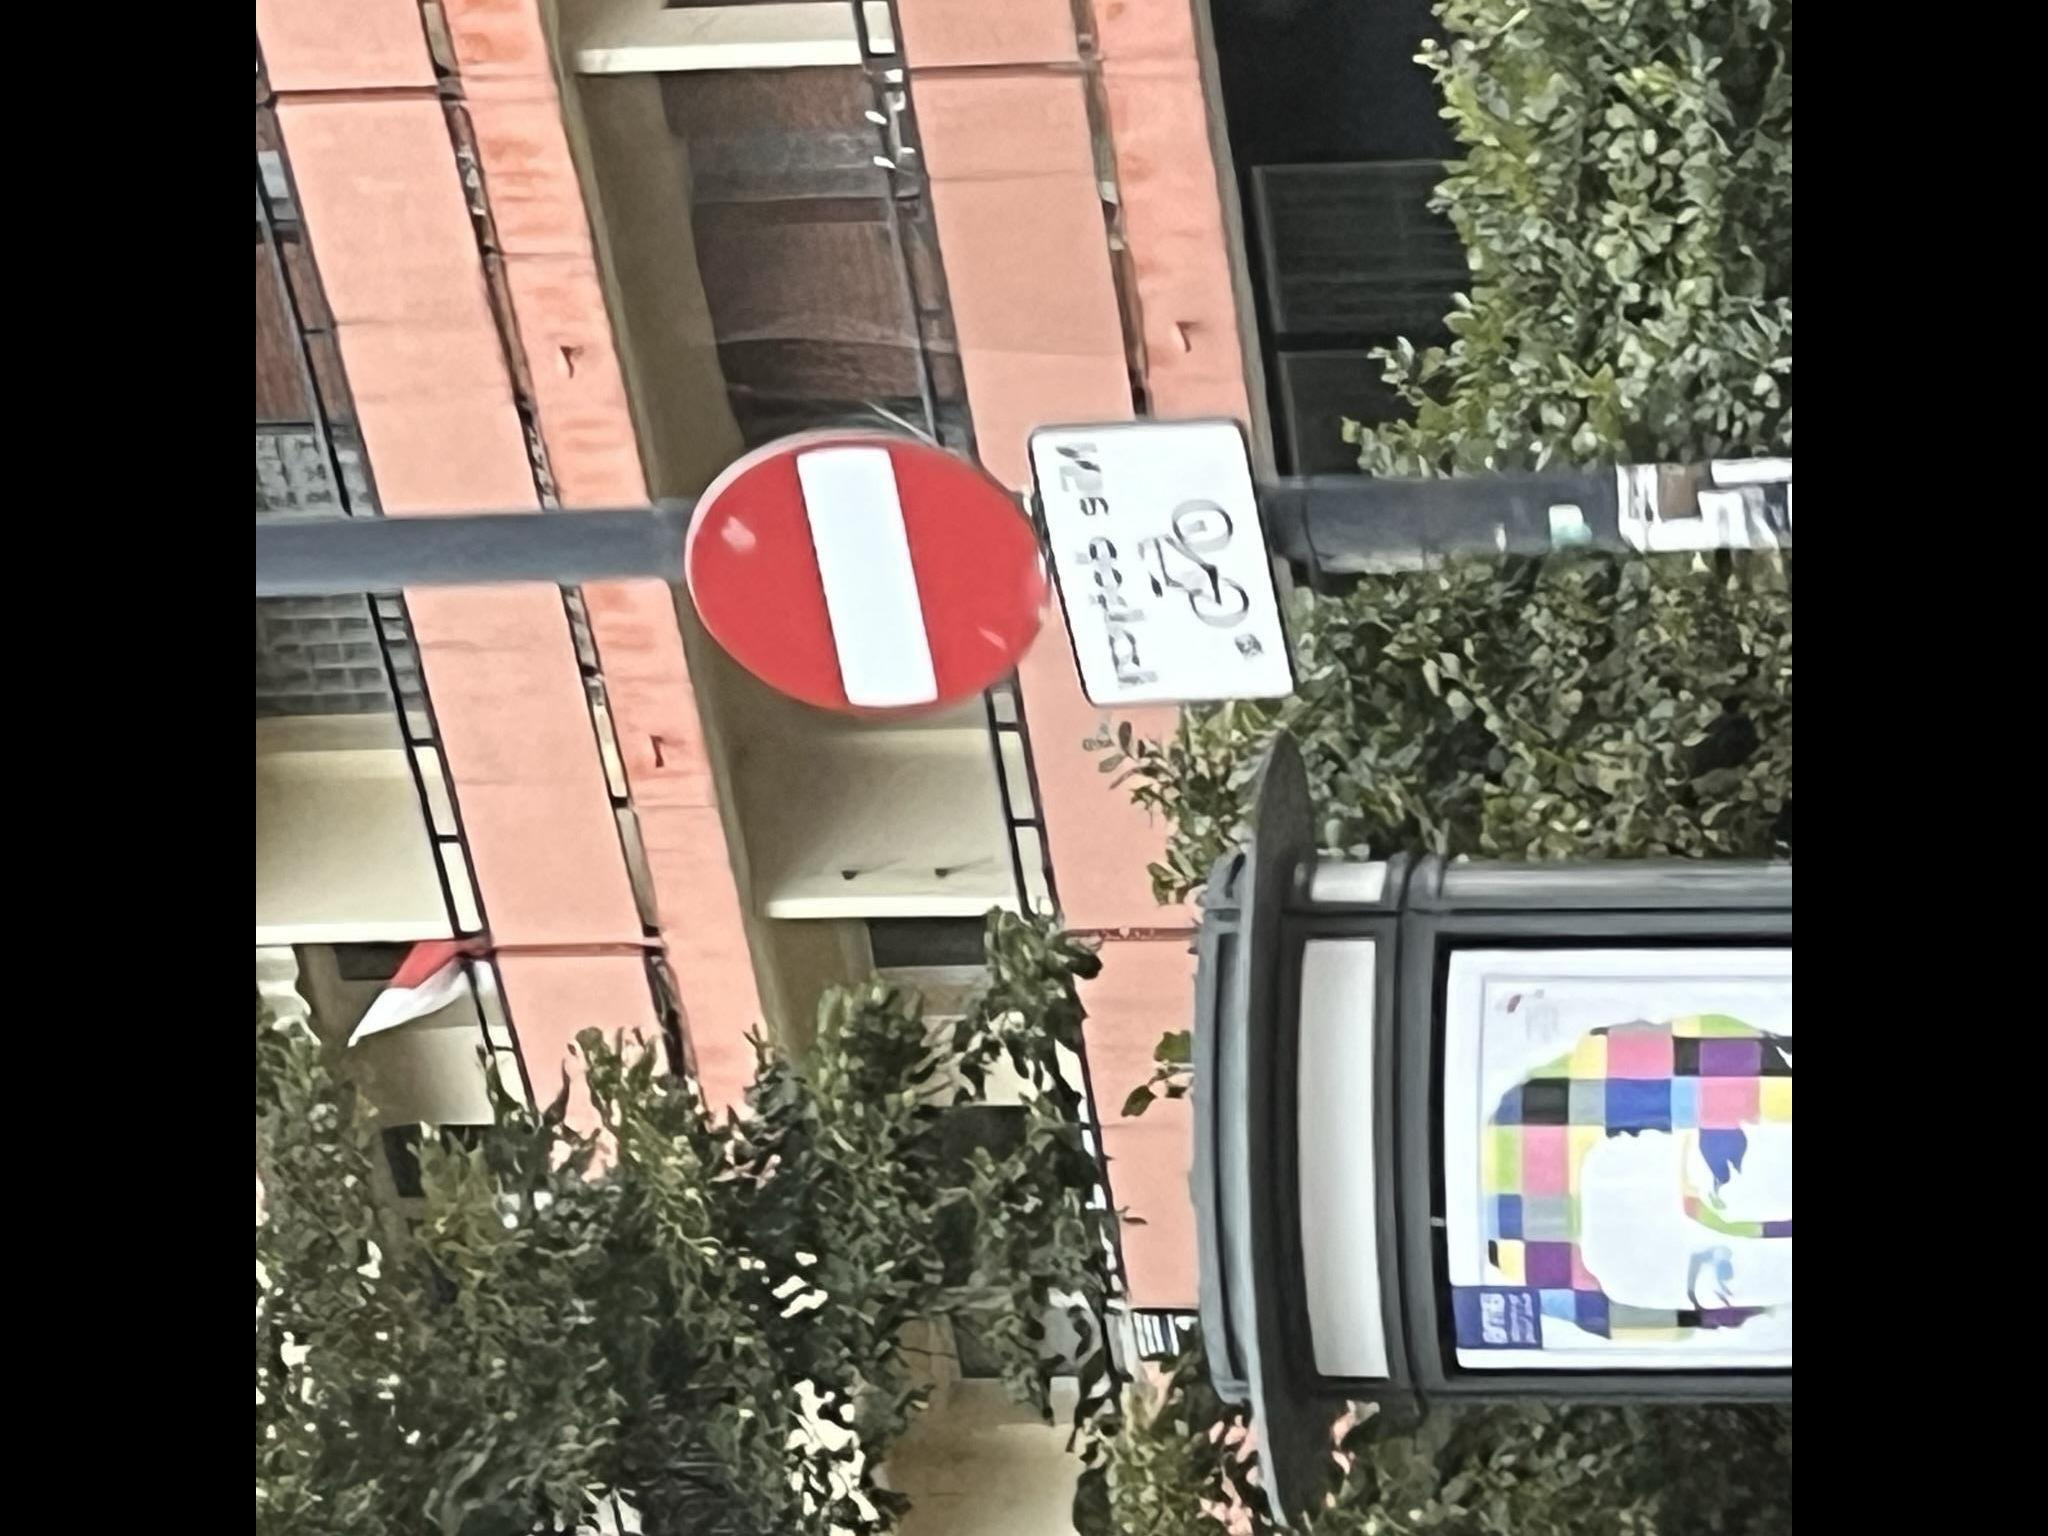other: (1026, 419, 1297, 703)
prohibitory: (682, 424, 1050, 728)
